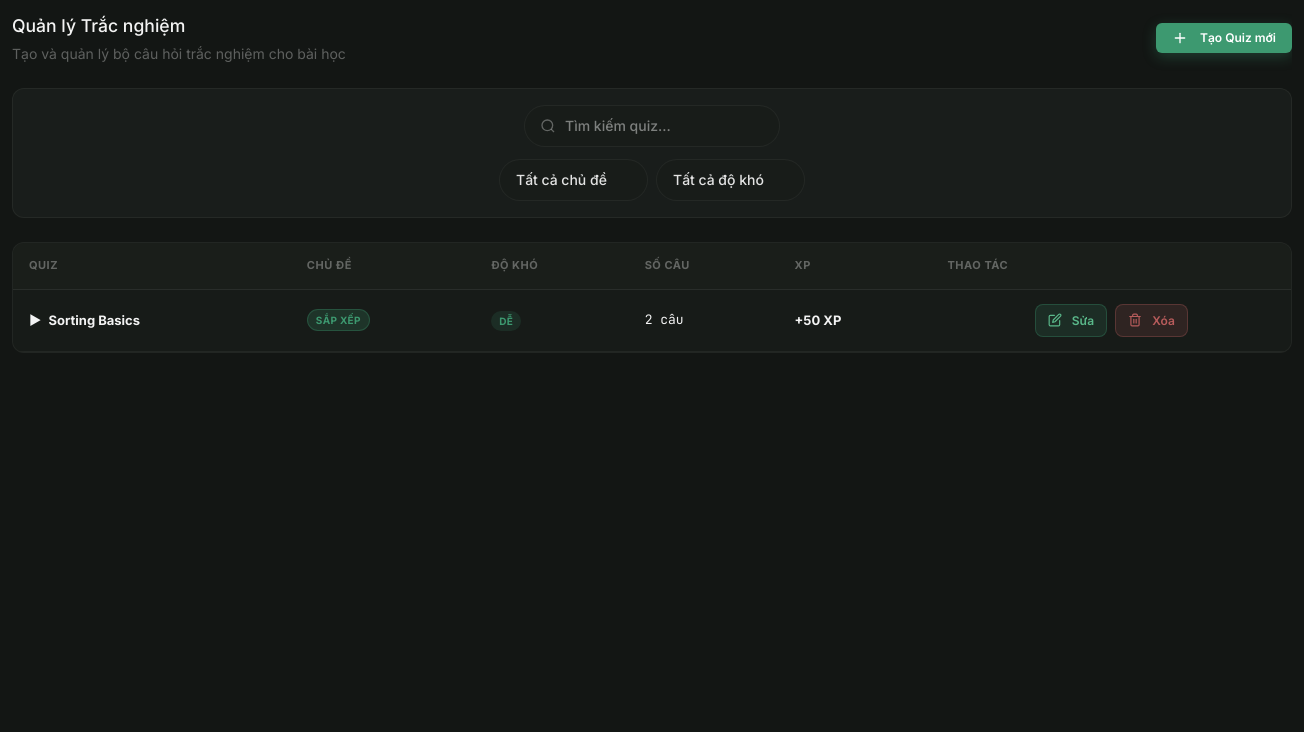
Test: QuizBuilderTab — Contract Spec (TC-040) › accordion: click hàng quiz → GET detail withAnswers + render câu hỏi (TC-040)
Click the row "▶ Sorting Basics Sắp xếp Dễ 2 câu +50 XP Sửa Xóa".
click(652, 320)  # box [13,289,1291,351]
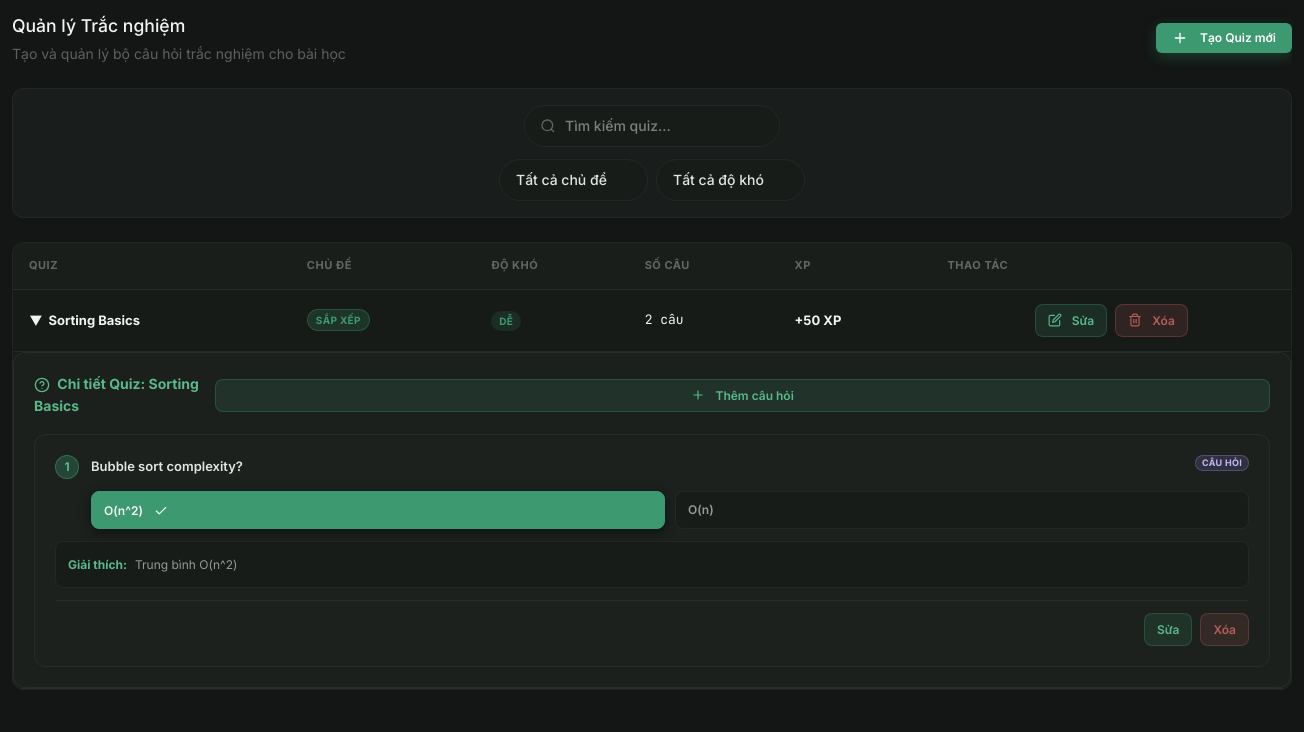
Expected: the text "Bubble sort complexity?" is shown, [91,456,243,477]
Expected: the text "O(n^2)" is shown, [91,491,665,529]
Expected: the text "Giải thích:" is shown, [68,557,127,572]
